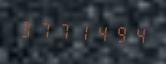four: (89, 20, 106, 45), (125, 22, 142, 47)
nine: (107, 21, 124, 46)
one: (71, 19, 88, 44)
seven: (35, 17, 52, 42), (53, 18, 70, 43)
three: (17, 16, 34, 41)
